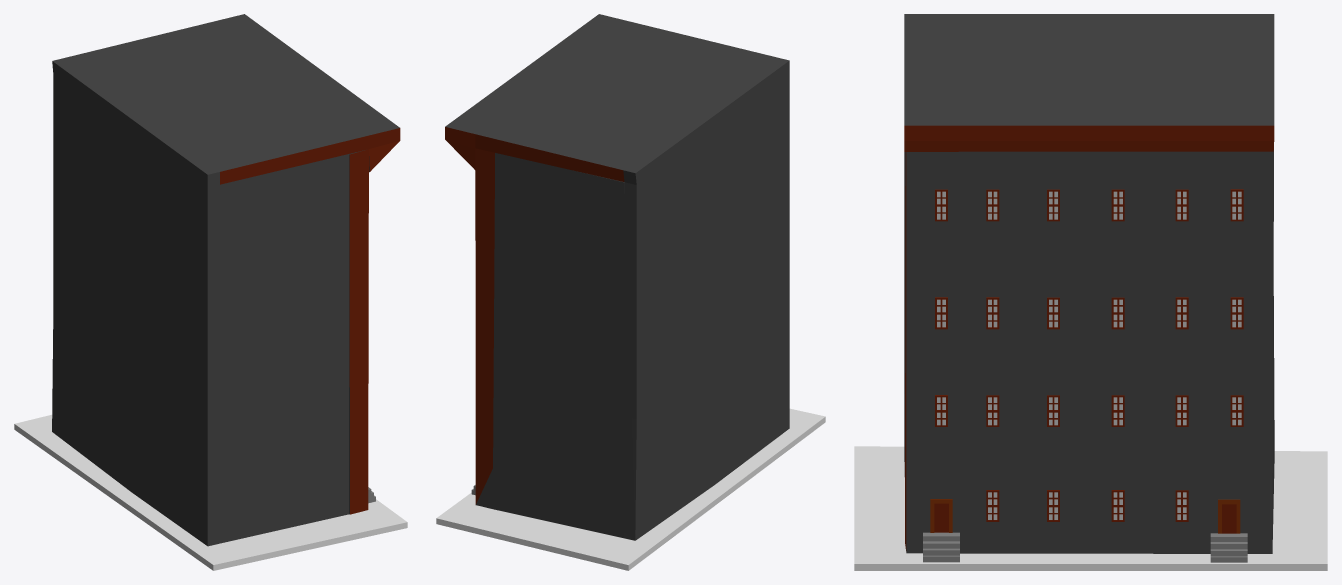
File: Apartment_building.glb
3 views of the same model, side by side, from view 1: azimuth 30°, elevation 25°; view 2: azimuth 150°, elevation 25°; view 3: azimuth 270°, elevation 25° (orthographic). The views are drawn at different scales.
Visible parts, largest first — view 1: Cube; view 2: Cube; view 3: Cube.
Boxes of the visible parts, x1,y1,x2,y2 form: Cube: [14, 14, 407, 570]; Cube: [436, 14, 825, 570]; Cube: [854, 14, 1327, 570].
Size of the model in its own units: 24.83 by 43.54 by 41.19.
